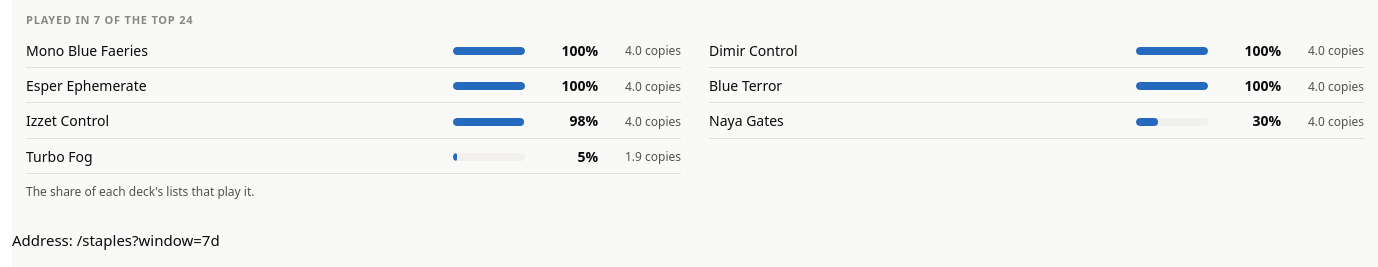
Test: PlayedBy › links each deck to its page in the window on screen
Click the link "Dimir Control".
click(753, 50)  # box [709,41,798,60]
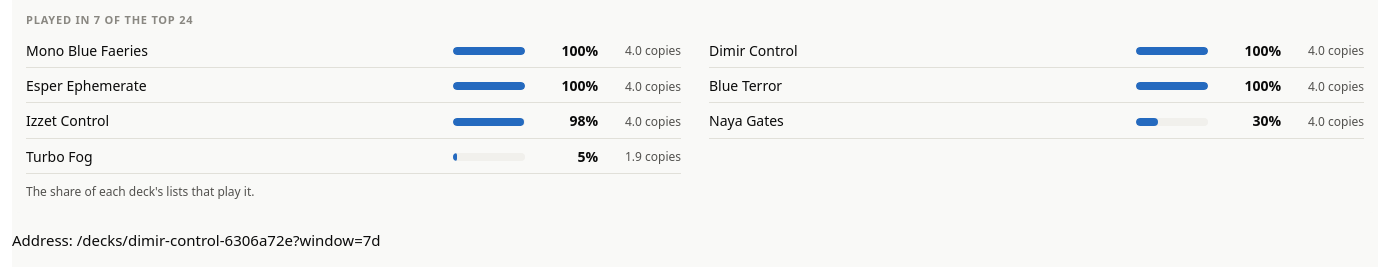
Check: the text "Address: /decks/dimir-control-6306a72e?window=7d" is shown, box [12,230,380,250]
